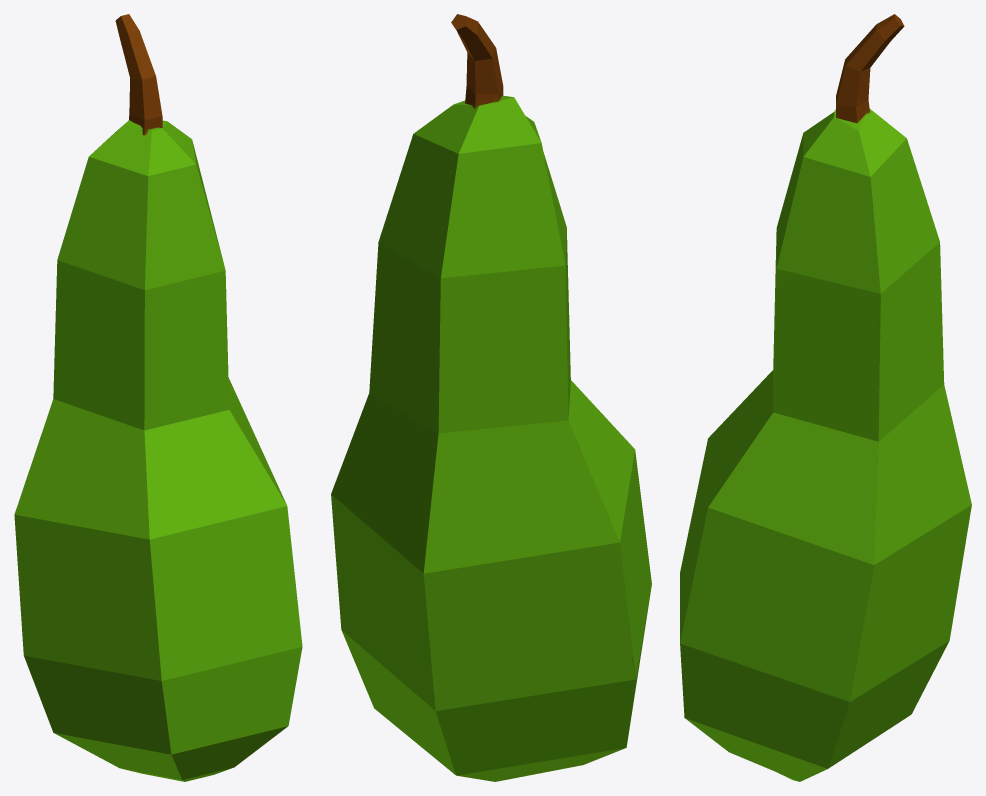
Rendered from pear.fbx.
3 renders of one model, left to right at view 1: azimuth 30°, elevation 25°; view 2: azimuth 150°, elevation 25°; view 3: azimuth 270°, elevation 25°, orthographic. The views are drawn at different scales.
Parts seen in each view (by area): view 1: Pear; view 2: Pear; view 3: Pear.
Part boxes in pixels (left/top/right/bottom): Pear: left=14, top=14, right=302, bottom=781; Pear: left=331, top=14, right=651, bottom=781; Pear: left=680, top=14, right=971, bottom=781.
Size of the model in its own units: 72.2 by 192 by 68.23.
